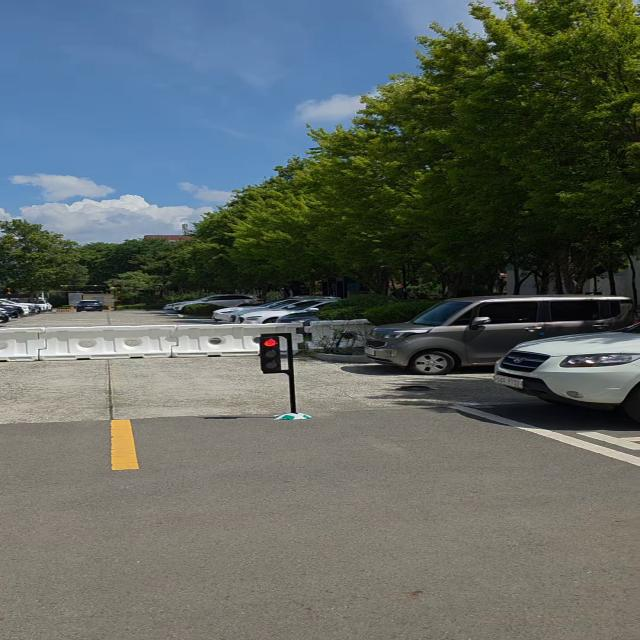red: (253, 332, 290, 374)
